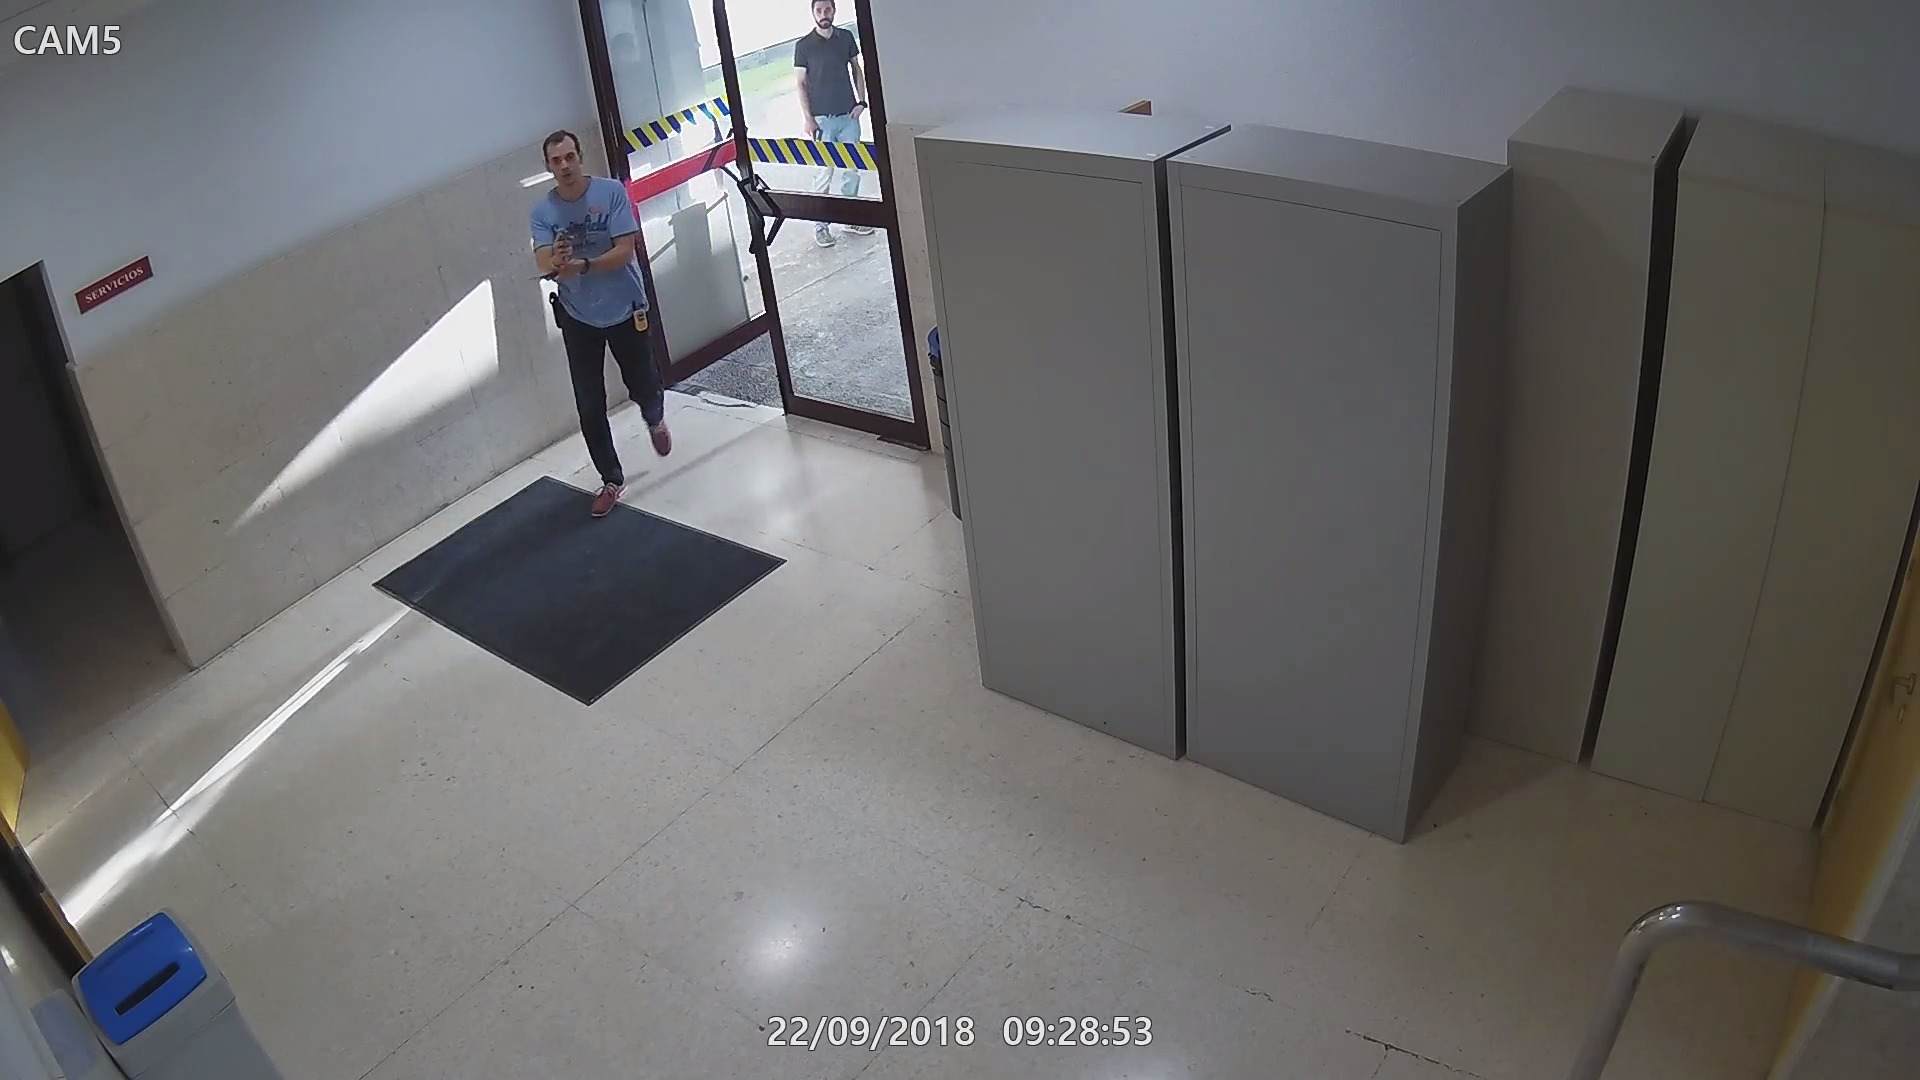Handgun: (547, 224, 592, 261)
Knife: (524, 258, 585, 284)
